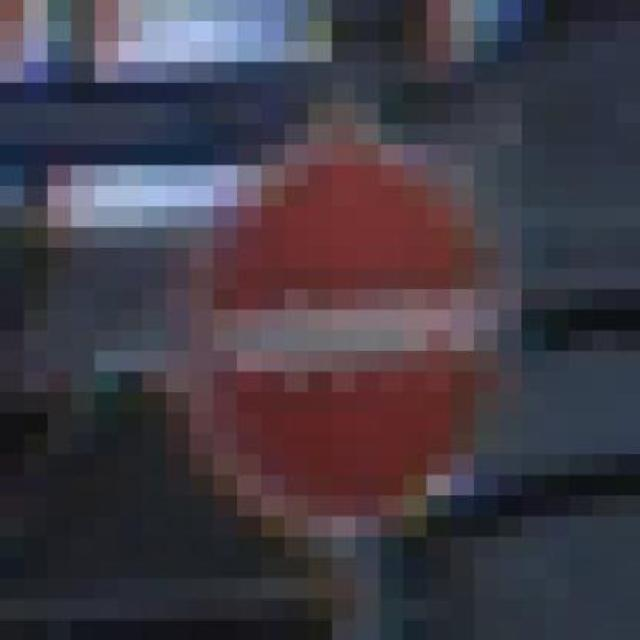No Entry: (166, 82, 522, 558)
